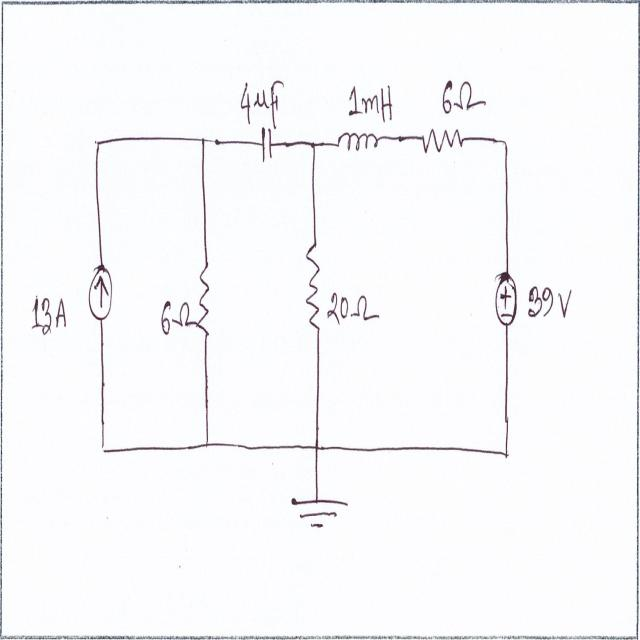ground: (287, 491, 349, 537)
resistor: (304, 235, 322, 332), (198, 258, 214, 343)
